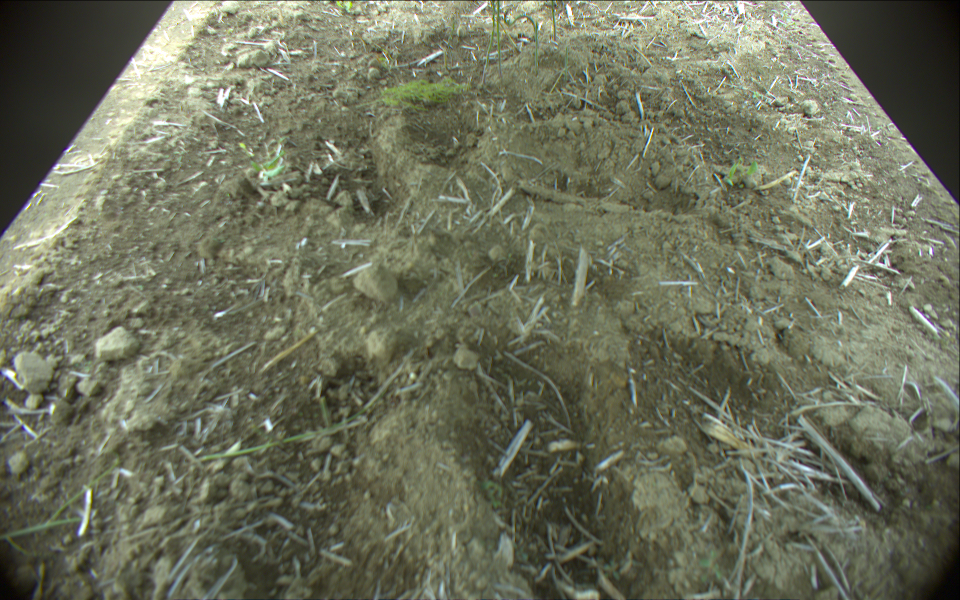aspa: (481, 1, 497, 86), (505, 9, 541, 46), (496, 1, 506, 80), (550, 1, 558, 42)
